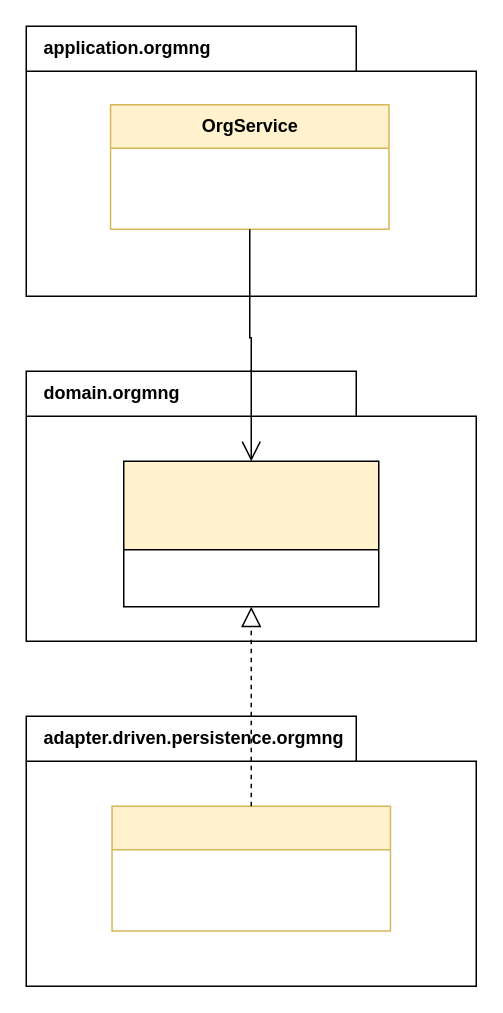
The diagram is 503 pixels wide and 1013 high, and some of its shapes have lost their labels. The shapes that lost their labels are listed below. From the top down, each one's centre as x and y in pixels, then its label:
At [250,533]: "<<interface>> OrgRepository".
At [250,868]: "OrgRepositoryImpl".
